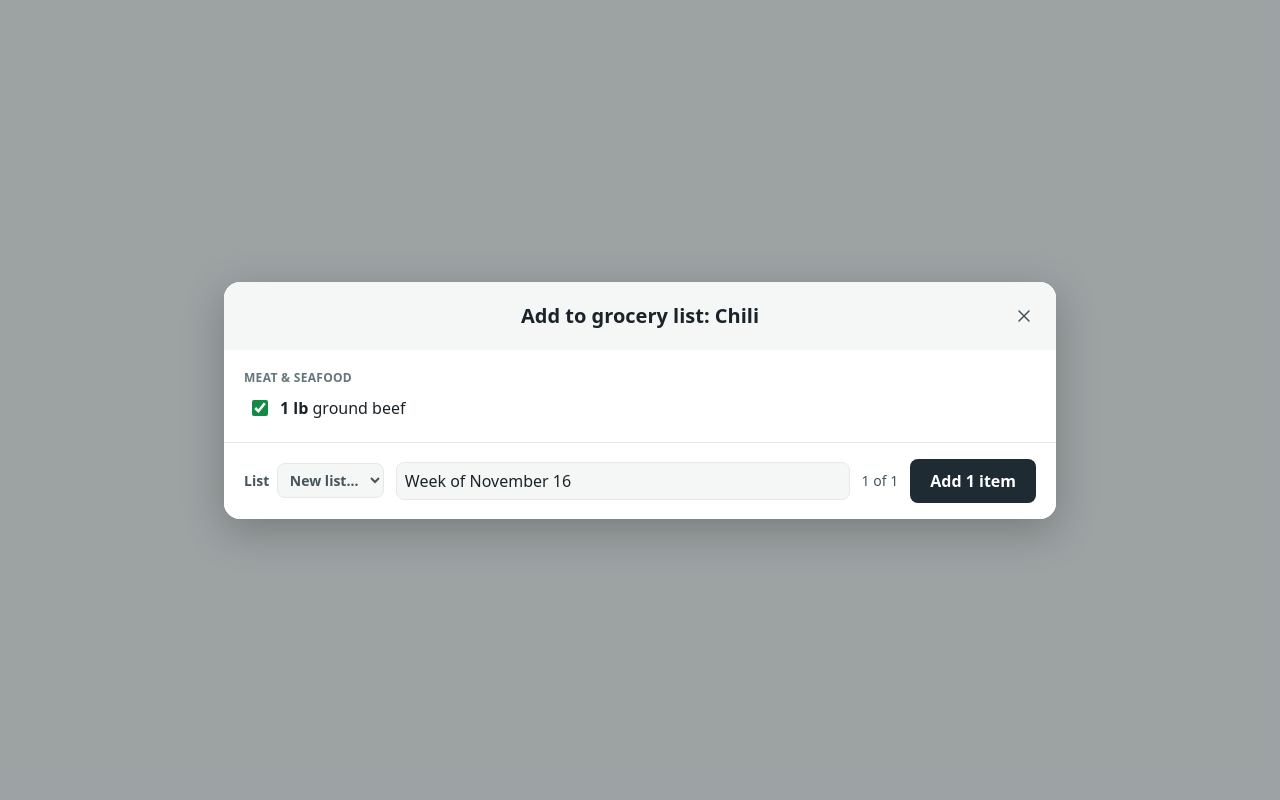
Test case: Add to grocery list: which list › no lists: suggests this week's list and creates it
This screenshot has width=1280, height=800.
Expected: the field named "New list name" holds "Week of November 16", [396,462,850,500]
Expected: the dropdown labelled "List" shows "New list…", [277,463,384,498]
Click the button "Add 1 item" at (973, 480), box [910,458,1036,502]
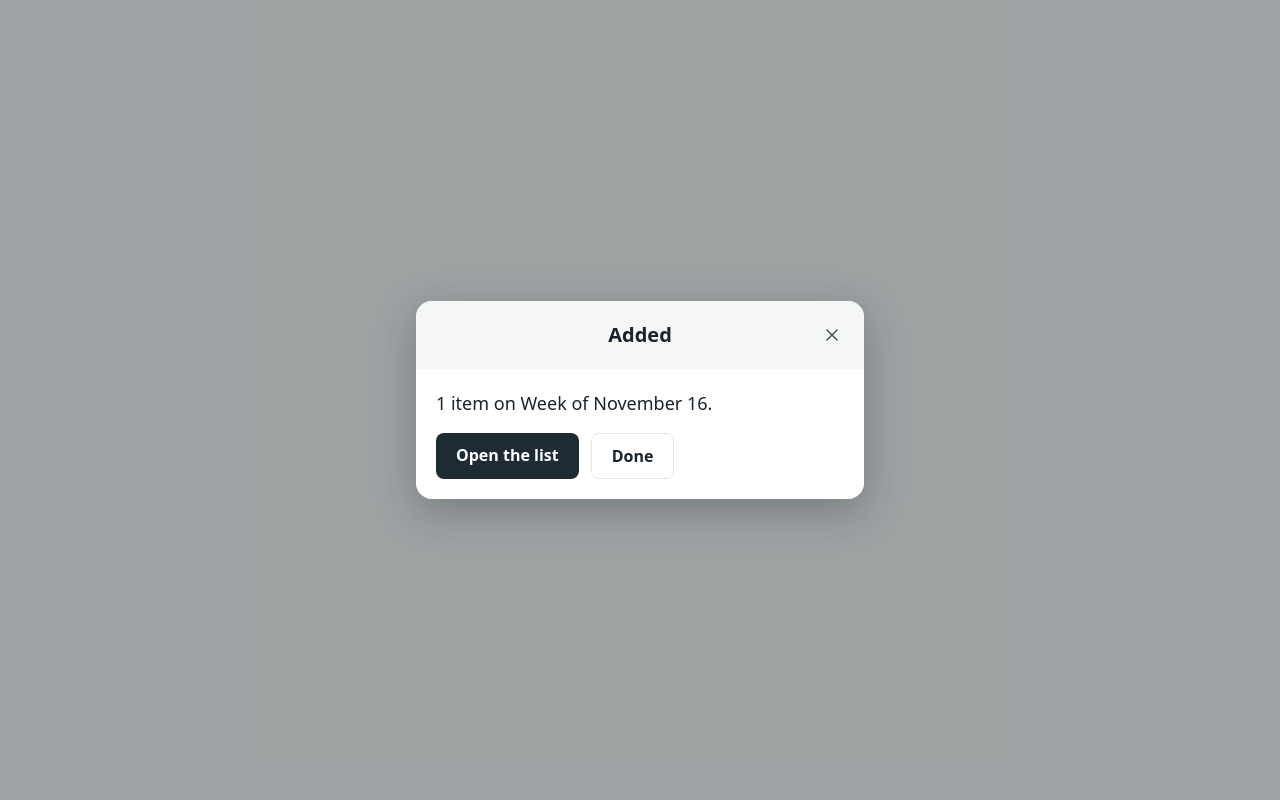
Now the text "1 item on Week of November 16." is shown, box [436,391,712,415]
